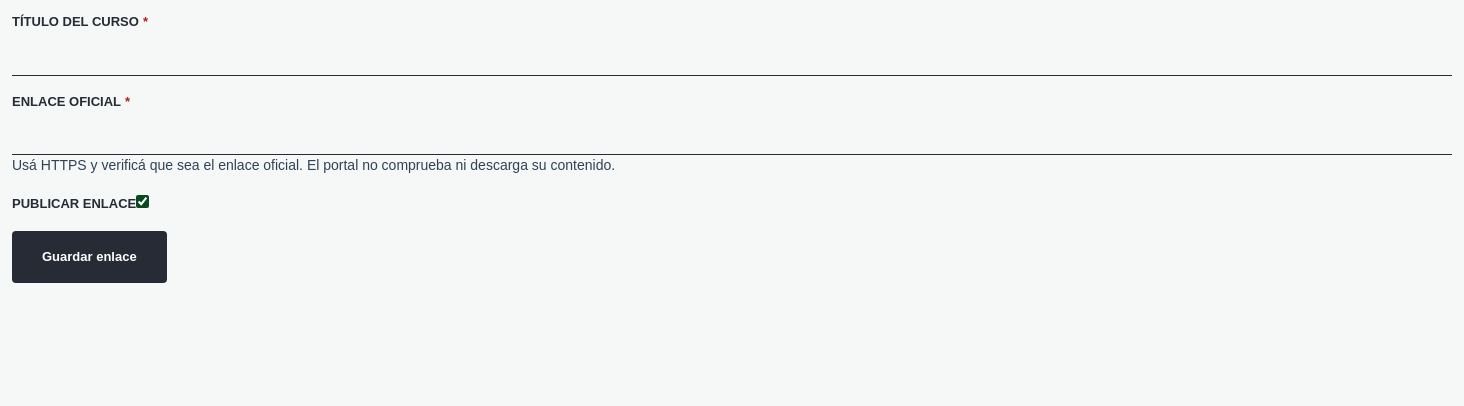
Test: course links and municipal referral forms › validates required link fields before submitting
Click the button "Guardar enlace".
click(89, 257)  # box [12,231,167,282]
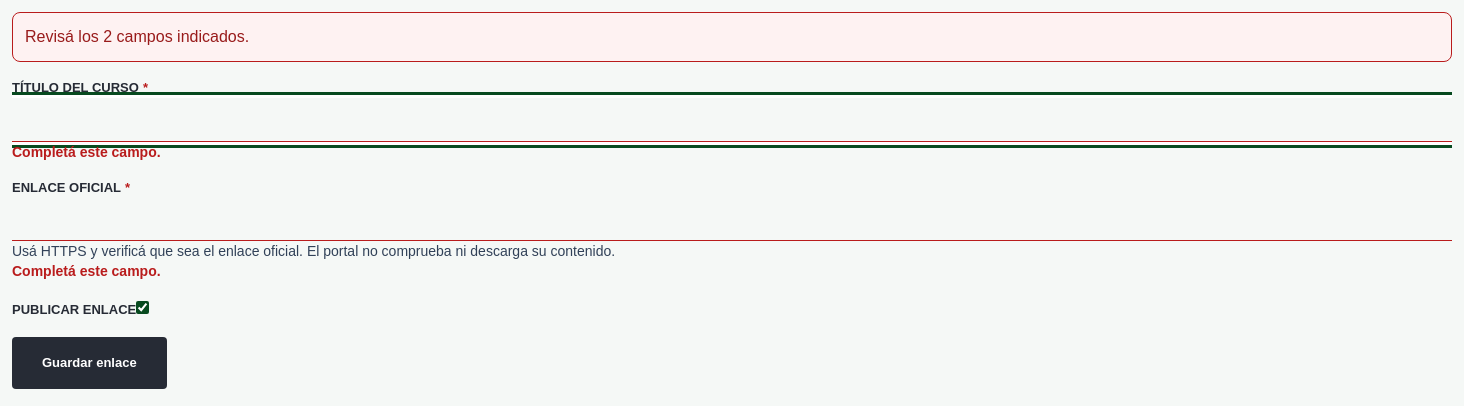
Now the message shows "Revisá", box [25,28,78,45]
